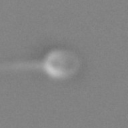normal: (1, 53, 44, 82)
